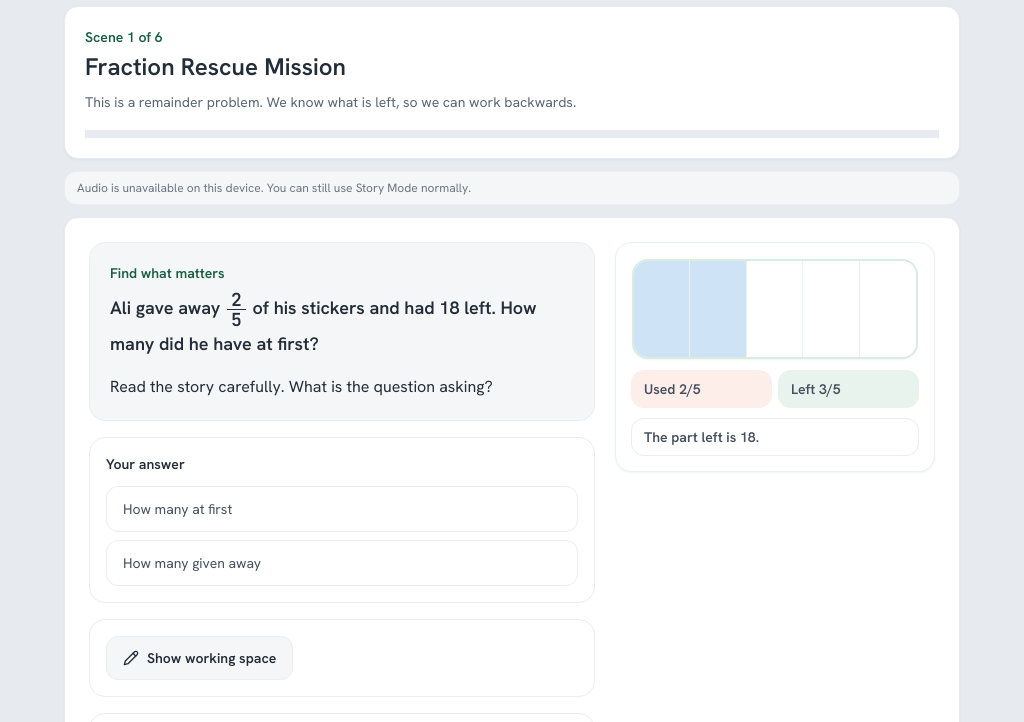
Test: FractionsStoryModeSession direct routes › keeps working space collapsed until requested
Step 1. Click the button "Show working space" → [200, 658], box [106, 636, 293, 680]
(page scrolled)
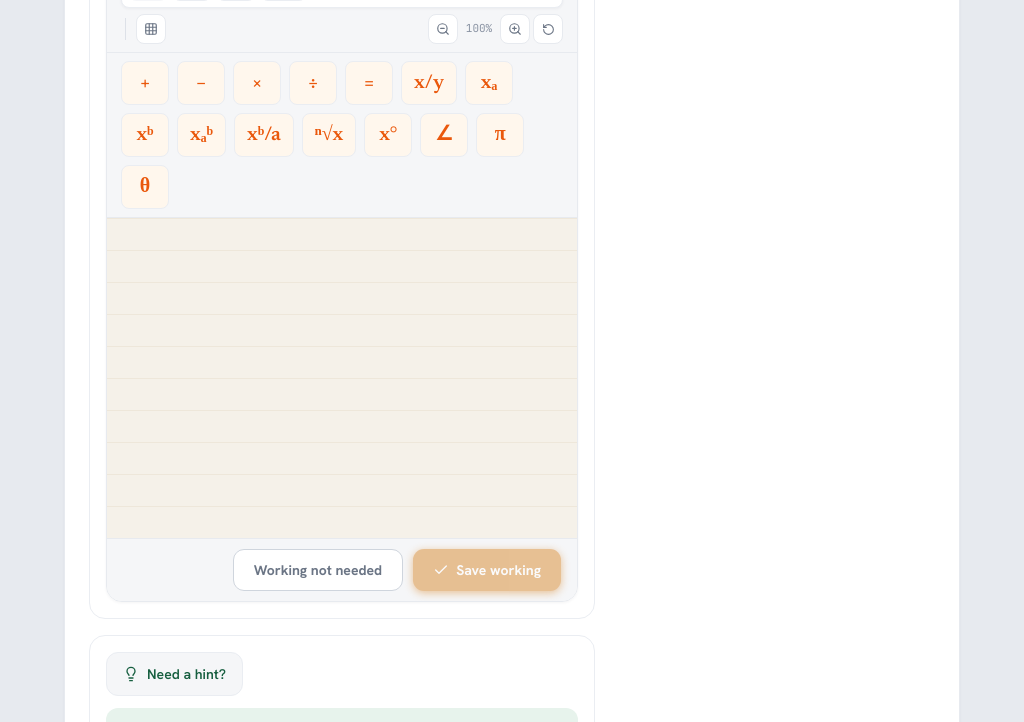
expect the drawing named "Working canvas" is shown: met, box [107, 218, 577, 538]
